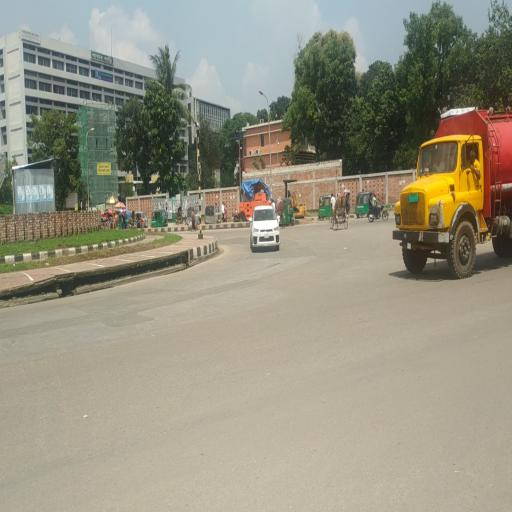car: (250, 206, 282, 252)
motorbike: (369, 204, 390, 225)
rickshaw: (330, 194, 350, 232), (174, 206, 190, 227), (129, 210, 144, 232), (277, 201, 287, 231)
three wheelers (CNG): (355, 191, 369, 220), (204, 206, 222, 227), (151, 208, 169, 228), (318, 196, 332, 221), (287, 199, 297, 228)
truck: (393, 98, 512, 286)
